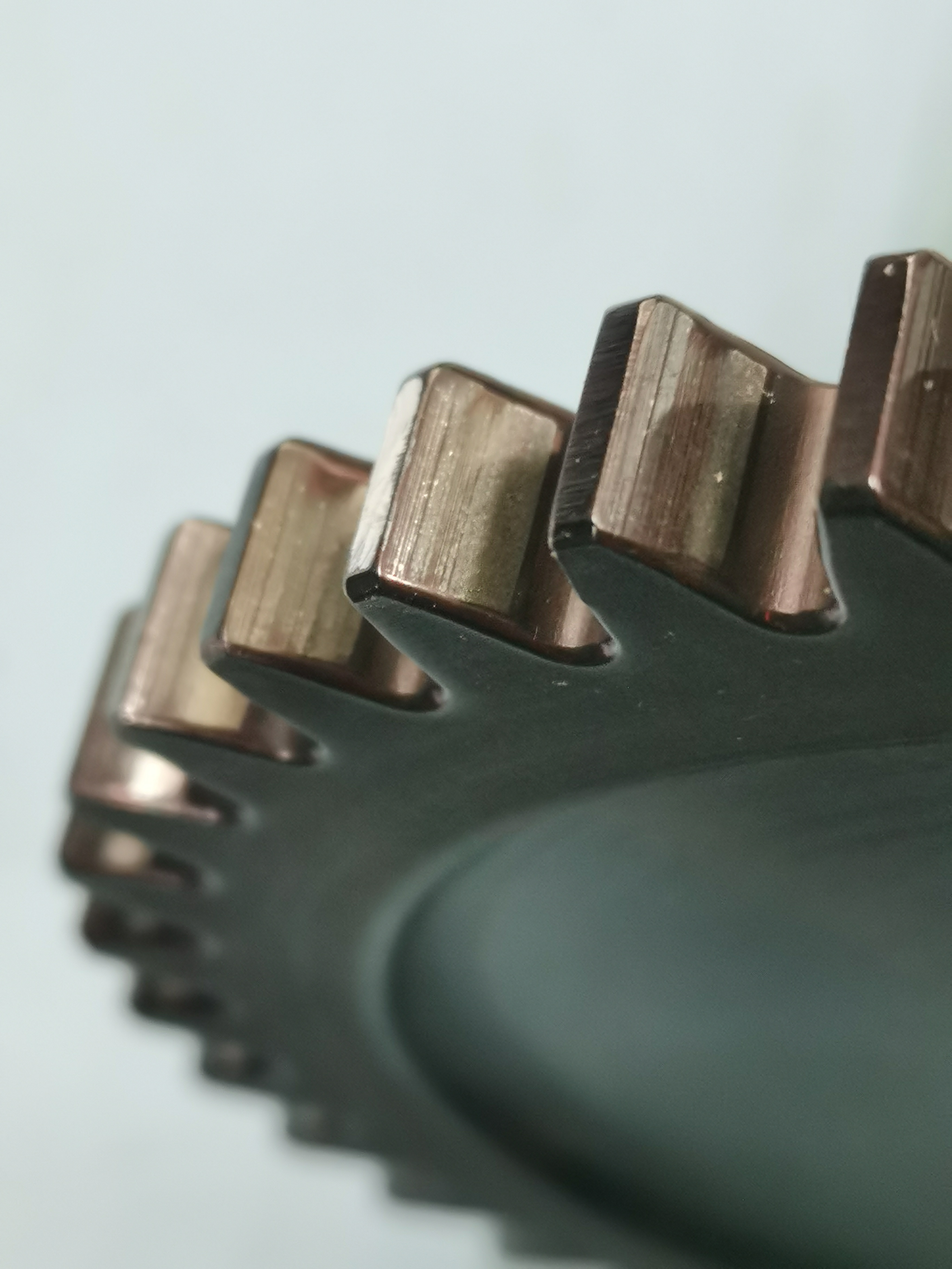Abrasion: (589, 288, 800, 609), (356, 355, 561, 656), (222, 418, 394, 686), (120, 491, 269, 749)
